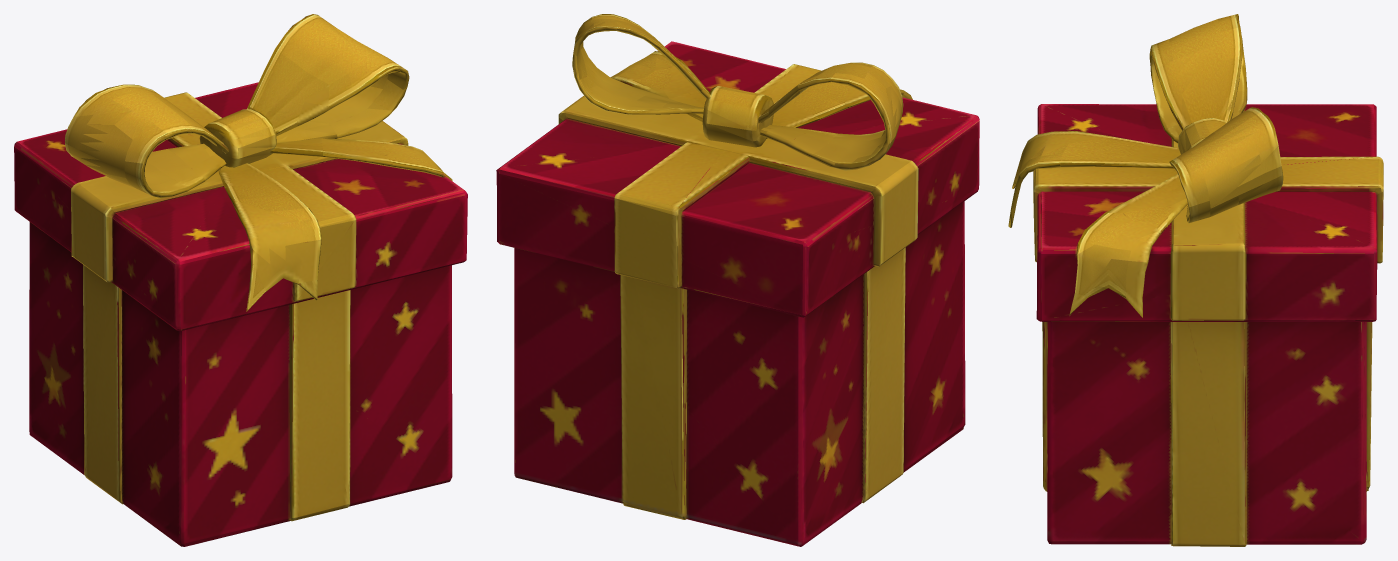
File: starlight_gift_crimson.glb
The picture shows the model from 3 angles, left to right: view 1: azimuth 30°, elevation 25°; view 2: azimuth 150°, elevation 25°; view 3: azimuth 270°, elevation 25°; orthographic projection. The views are drawn at different scales.
Visible parts, largest first — view 1: mesh_node; view 2: mesh_node; view 3: mesh_node.
Part boxes in pixels (<box>): mesh_node: <box>14,14,467,546</box>; mesh_node: <box>496,14,979,546</box>; mesh_node: <box>1008,14,1383,546</box>.
Bounding box in the file's own units: 0.8555 × 1 × 0.8262.
Materials: 1 (1 with a texture image).
